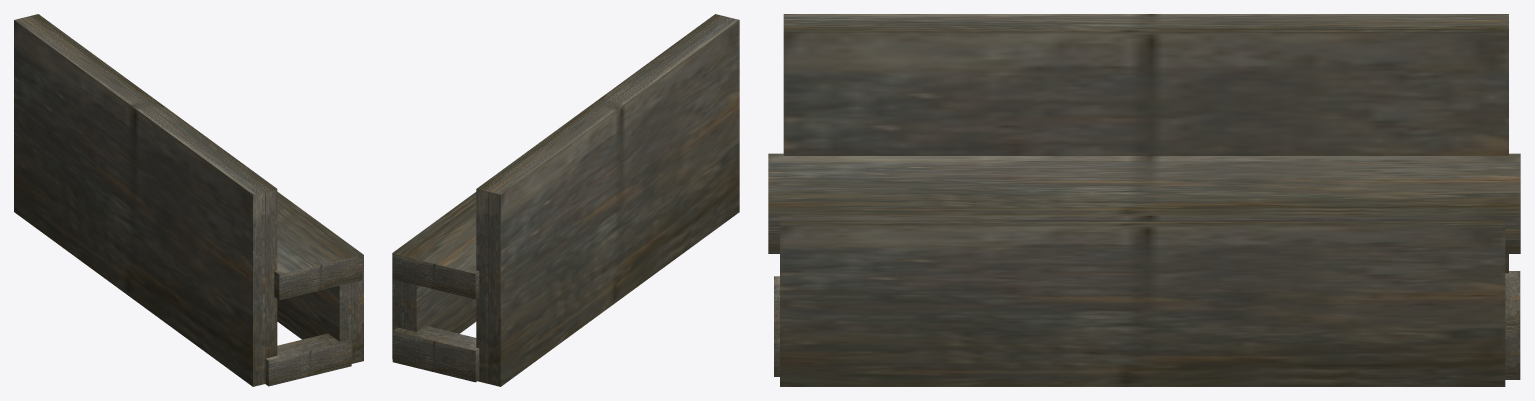
Rendered from bench.glb.
3 views of the same model, side by side, from view 1: azimuth 30°, elevation 25°; view 2: azimuth 150°, elevation 25°; view 3: azimuth 270°, elevation 25° (orthographic). The views are drawn at different scales.
Visible parts, largest first — view 1: bench.ms3d.mo; view 2: bench.ms3d.mo; view 3: bench.ms3d.mo.
Part boxes in pixels (left/top/right/bottom): bench.ms3d.mo: left=14, top=14, right=363, bottom=386; bench.ms3d.mo: left=392, top=14, right=739, bottom=386; bench.ms3d.mo: left=768, top=14, right=1520, bottom=386.
Size of the model in its own units: 13.5 by 22.64 by 52.8.
1 material, 1 textured.
